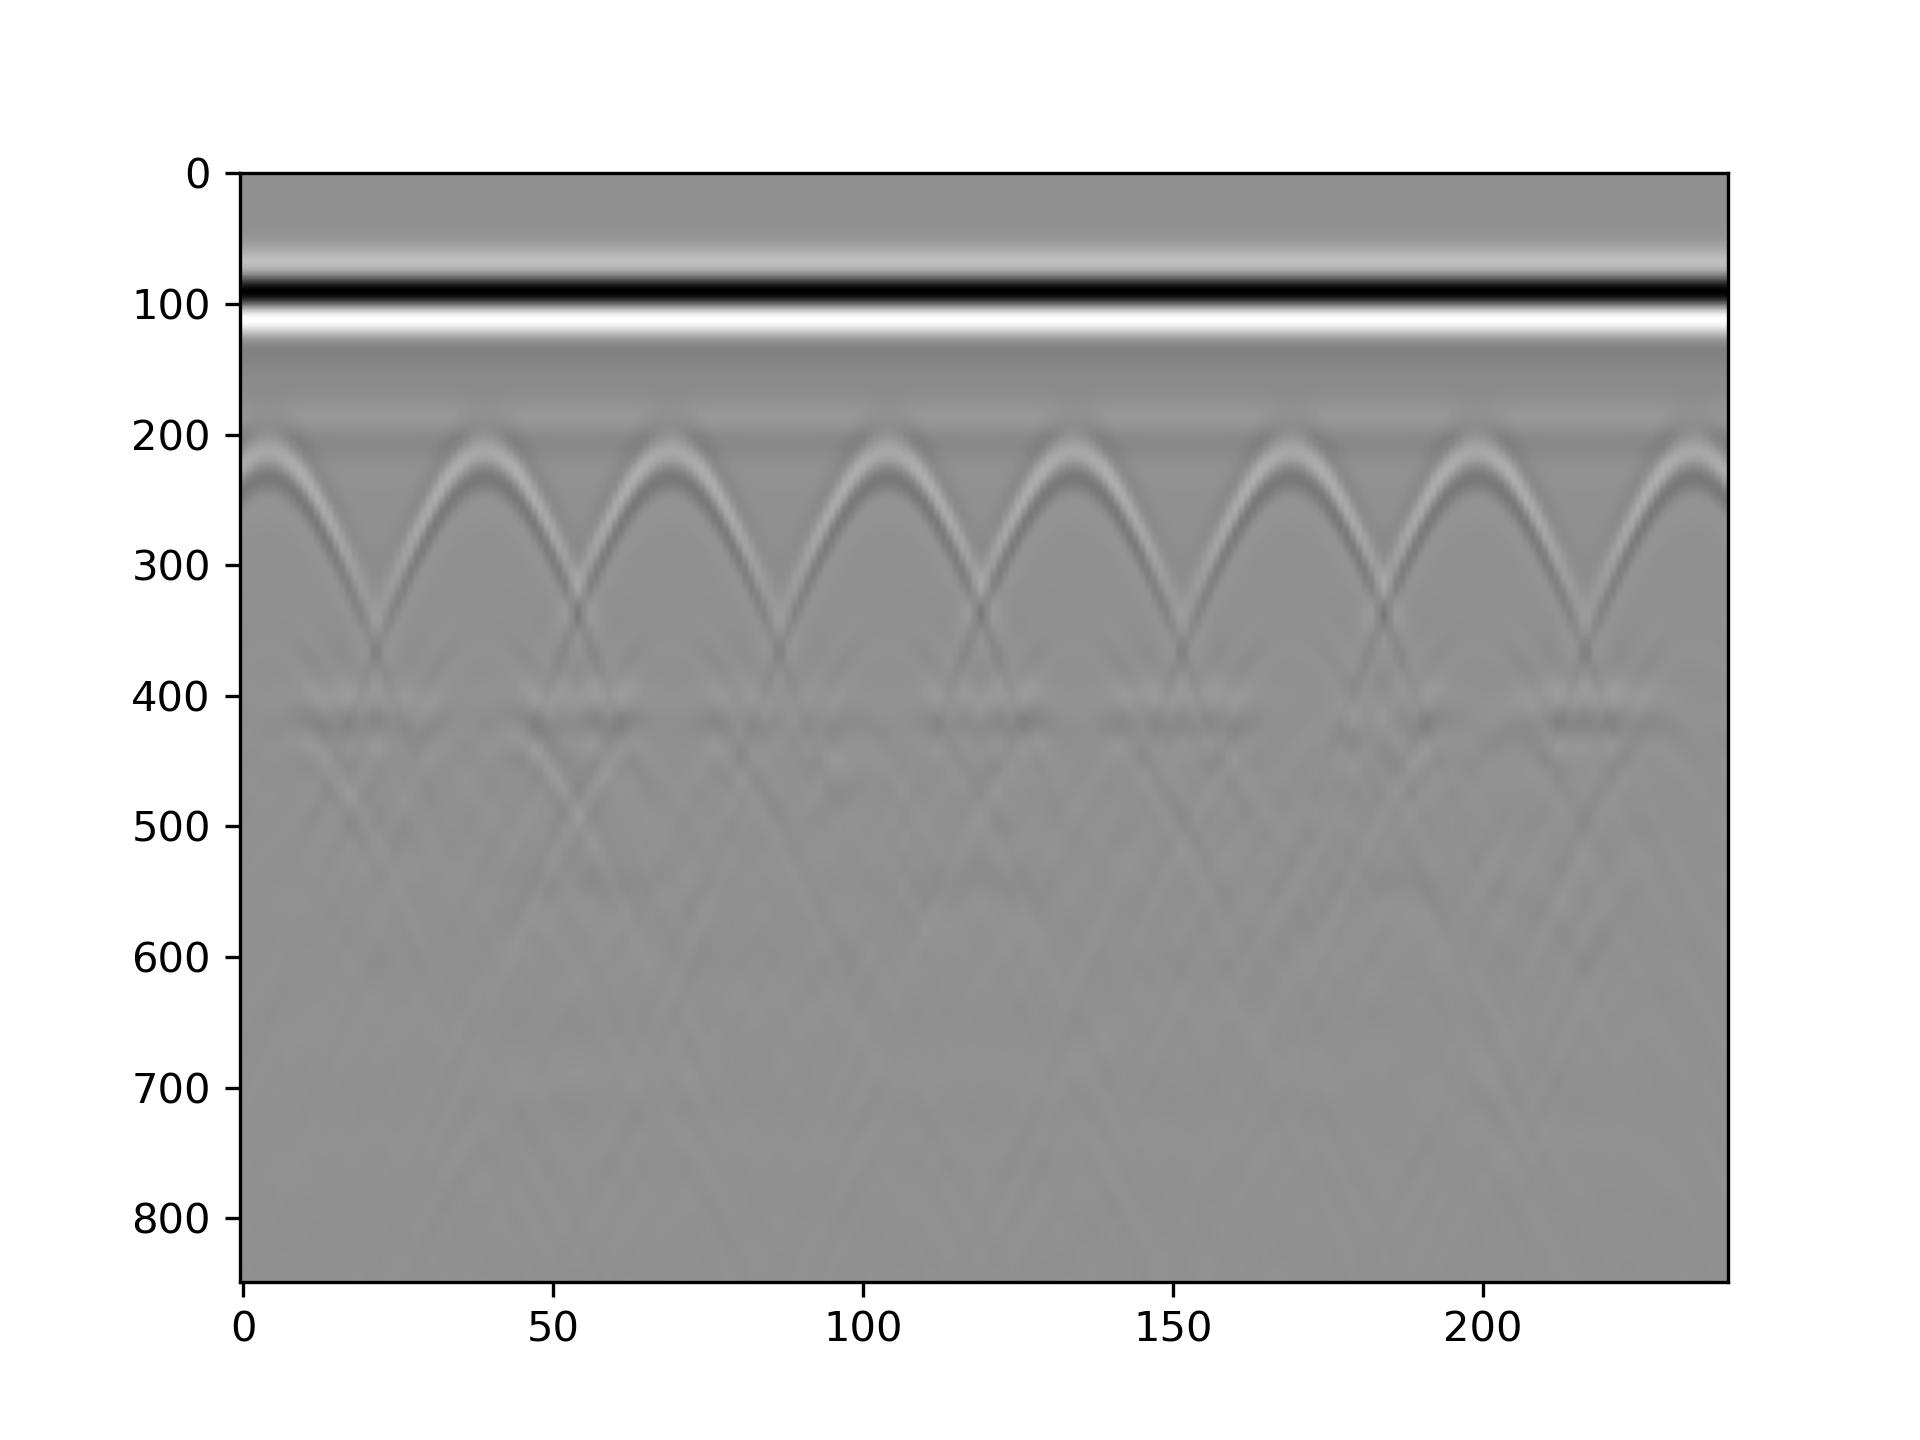钢筋: (1451, 436, 1503, 486), (262, 436, 311, 486), (475, 436, 525, 486), (658, 436, 708, 486), (872, 436, 922, 486), (1055, 436, 1105, 486), (1268, 436, 1318, 486), (1666, 436, 1716, 486)
